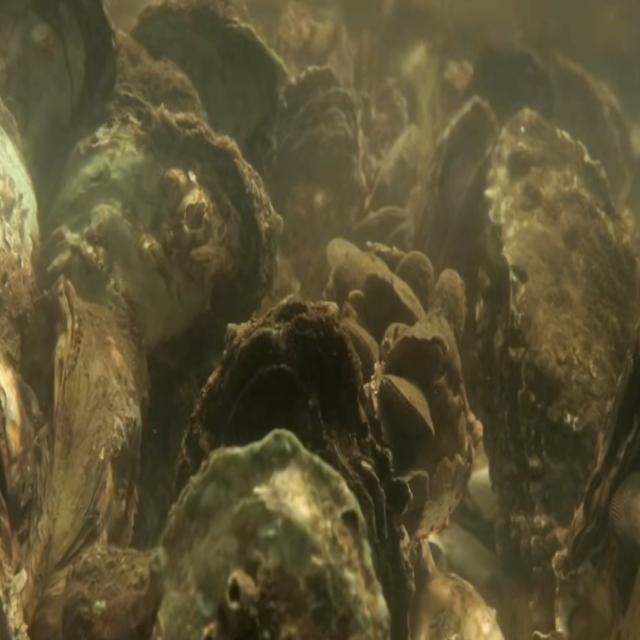Oyster-Closed: (50, 104, 284, 518), (181, 296, 412, 640), (475, 108, 635, 551), (151, 428, 390, 640), (381, 374, 435, 437), (388, 333, 450, 381)
Oyster-Indeterminate: (28, 274, 148, 640), (420, 93, 500, 324), (364, 268, 424, 322), (394, 249, 434, 321), (433, 266, 466, 342)
Oyster-Open: (262, 65, 359, 276)
